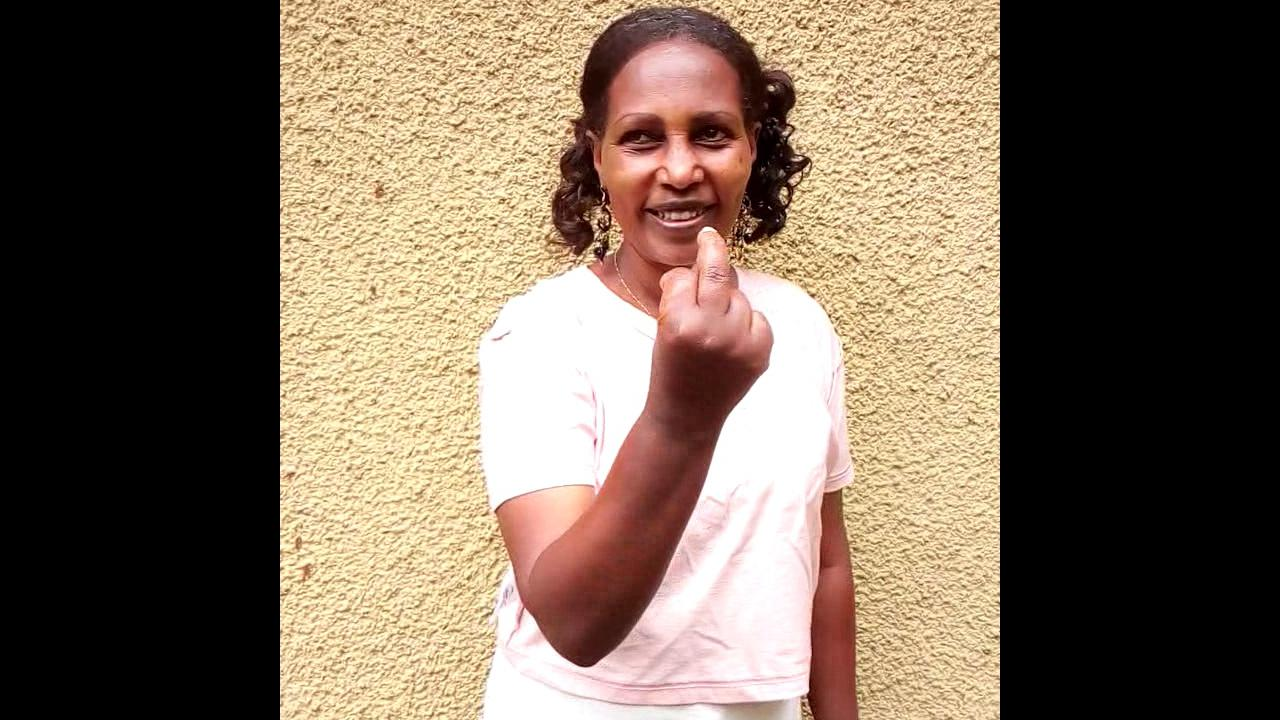CHE: (645, 231, 777, 524)
